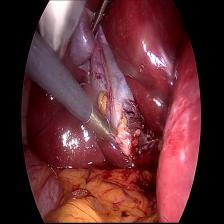Grasper: (107, 117, 127, 156), (88, 6, 107, 37)
